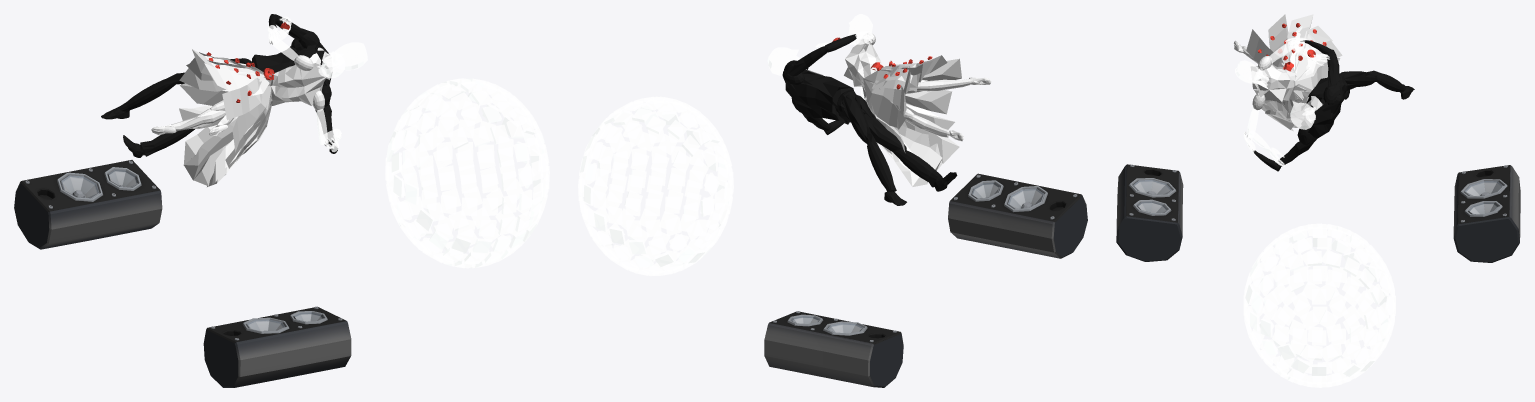
The model's file is coupon_2.gltf.
The picture shows the model from 3 angles, left to right: view 1: azimuth 30°, elevation 25°; view 2: azimuth 150°, elevation 25°; view 3: azimuth 270°, elevation 25°; orthographic projection. The views are drawn at different scales.
Visible parts, largest first — view 1: petblo 2020 disco ball, dance, Wall desk speakers, Wall desk speakers 1; view 2: petblo 2020 disco ball, dance, Wall desk speakers 1, Wall desk speakers; view 3: petblo 2020 disco ball, dance, Wall desk speakers, Wall desk speakers 1.
Part boxes in pixels (x1,y1,x2,y2): petblo 2020 disco ball: (385,78,549,268); dance: (101,14,367,186); Wall desk speakers: (14,160,162,249); Wall desk speakers 1: (203,306,351,387); petblo 2020 disco ball: (578,96,733,275); dance: (767,14,991,205); Wall desk speakers 1: (948,173,1087,258); Wall desk speakers: (764,311,903,387); petblo 2020 disco ball: (1243,223,1395,387); dance: (1233,14,1414,171); Wall desk speakers: (1453,165,1520,262); Wall desk speakers 1: (1116,164,1183,261).
Size of the model in its own units: 3.59 by 2.42 by 3.46.
5 materials, 1 textured.
